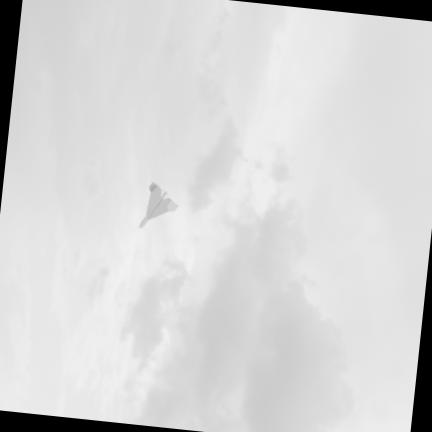Shahed: (139, 183, 177, 228)
